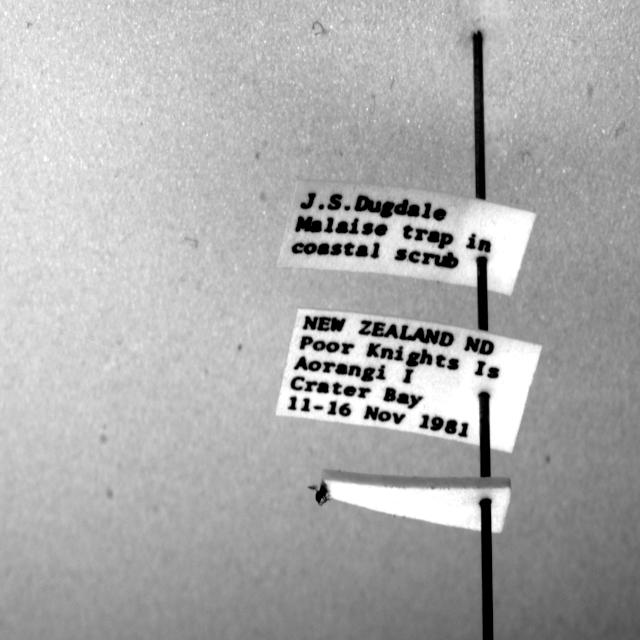typed_label: (276, 309, 541, 452), (279, 180, 535, 294)
